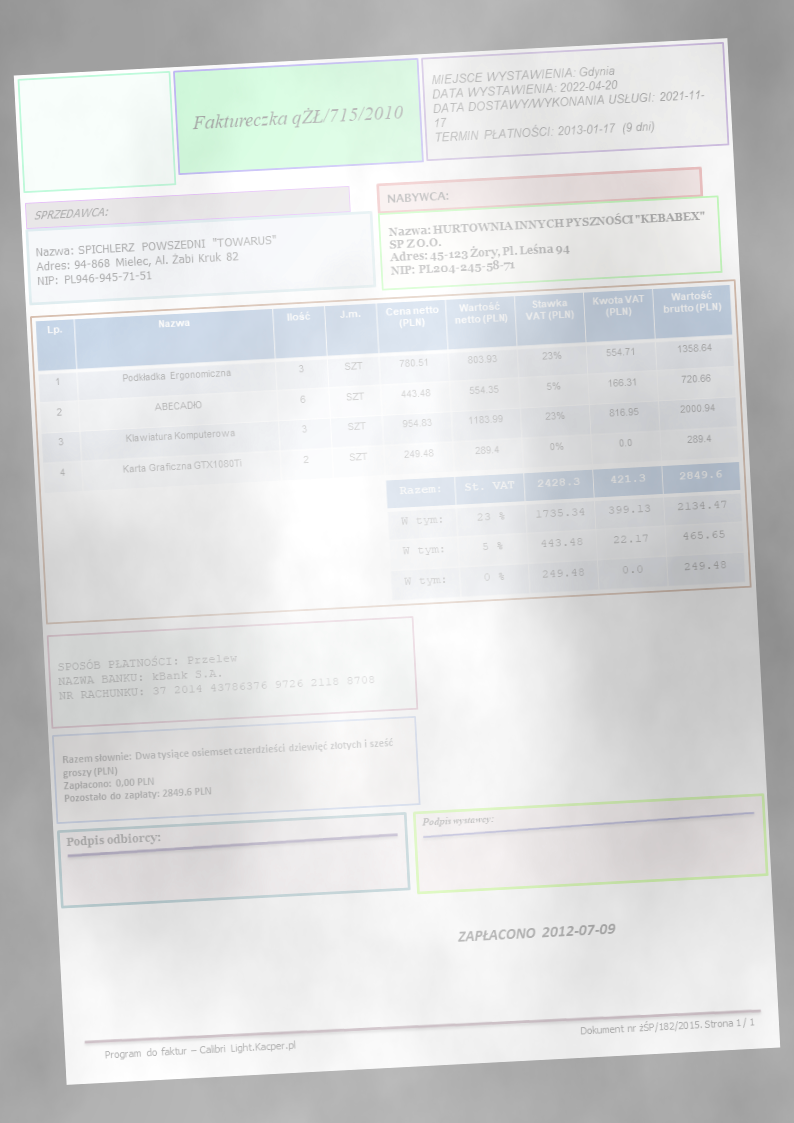Table: (34, 281, 738, 495), (385, 459, 747, 603)
TextBox: (429, 56, 708, 149), (59, 733, 397, 807), (385, 207, 712, 279), (54, 642, 378, 705), (31, 228, 281, 291), (187, 99, 406, 135), (101, 1036, 298, 1064), (578, 1013, 758, 1039), (455, 918, 619, 945), (62, 827, 162, 852), (418, 808, 495, 829), (31, 202, 109, 222), (383, 187, 449, 208)
